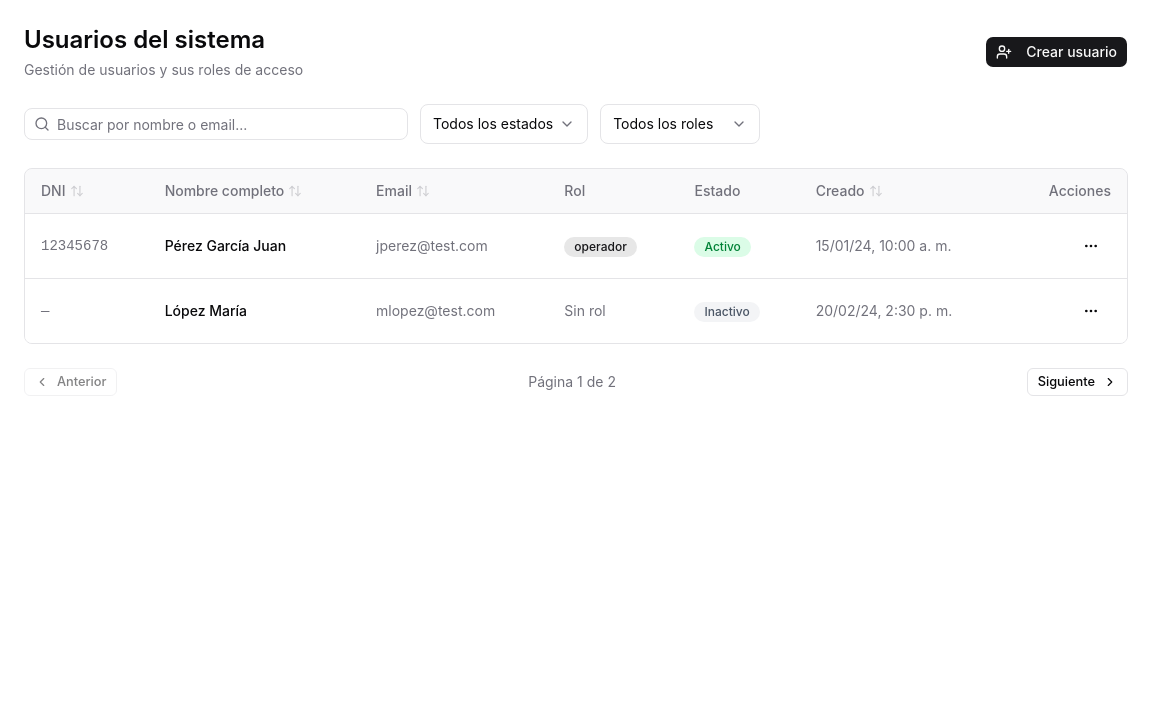
Test: PaginaUsuarios › click en Crear usuario abre el modal
The image size is (1152, 720).
Click the button "Crear usuario" at (1057, 52), box [985, 36, 1128, 68]
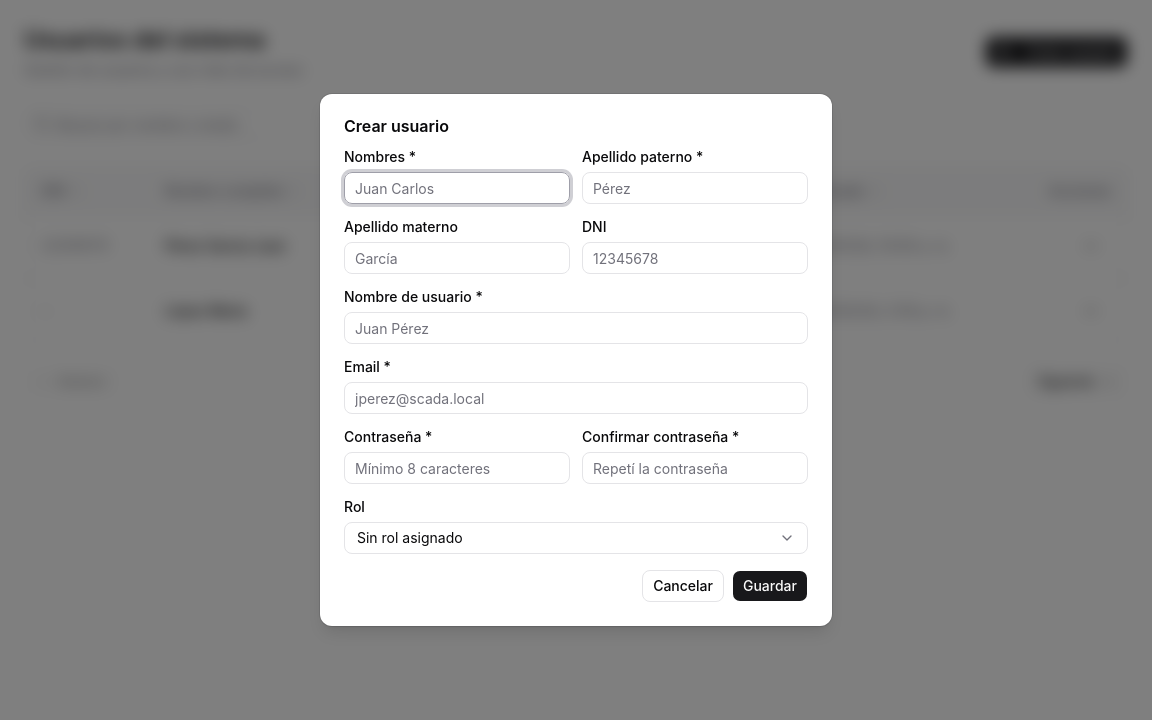
Now the heading "Crear usuario" is shown, box [344, 116, 449, 136]
